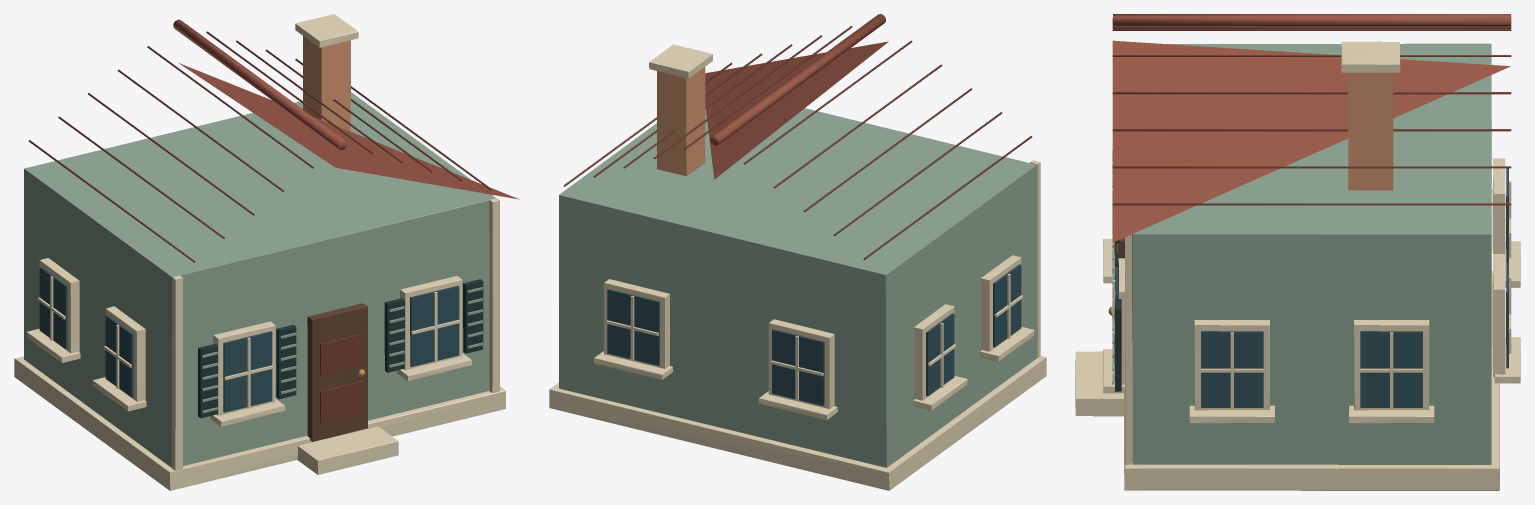
The model's file is house_cottage_low.glb.
The picture shows the model from 3 angles, left to right: view 1: azimuth 30°, elevation 25°; view 2: azimuth 150°, elevation 25°; view 3: azimuth 270°, elevation 25°; orthographic projection. The views are drawn at different scales.
Parts seen in each view (by area): view 1: Plaster walls, Foundation, Gabled terracotta roof, Front door, Chimney, Window glass.001, Window glass, Door step, Ridge cap, Corner trim, Corner trim.001, Window glass.002 (+16 smaller); view 2: Plaster walls, Foundation, Gabled terracotta roof, Chimney, Window glass.006, Window glass.007, Ridge cap, Window surround.006, Window surround.007, Window glass.002, Window glass.003, Window surround.002 (+7 smaller); view 3: Plaster walls, Gabled terracotta roof, Foundation, Chimney, Ridge cap, Window glass.004, Window glass.005, Door step, Window surround.005, Window surround.004, Chimney cap, Corner trim.001 (+16 smaller).
Part boxes in pixels (x1,y1,x2,y2): Plaster walls: (24, 92, 495, 467); Foundation: (14, 356, 505, 490); Gabled terracotta roof: (179, 63, 519, 199); Front door: (307, 303, 367, 441); Chimney: (303, 36, 350, 131); Window glass.001: (410, 285, 459, 367); Window glass: (223, 331, 272, 412); Door step: (297, 426, 398, 474); Ridge cap: (173, 19, 346, 149); Corner trim: (172, 275, 182, 470); Corner trim.001: (489, 198, 499, 393); Window glass.002: (105, 315, 133, 397); Plaster walls: (559, 106, 1036, 467); Foundation: (549, 356, 1046, 490); Gabled terracotta roof: (705, 41, 888, 179); Chimney: (657, 67, 705, 176); Window glass.006: (772, 329, 824, 405); Window glass.007: (607, 289, 659, 365); Ridge cap: (710, 14, 885, 145); Window surround.006: (768, 319, 834, 408); Window surround.007: (604, 279, 669, 368); Window glass.002: (993, 264, 1021, 347); Window glass.003: (926, 313, 954, 396); Window surround.002: (980, 255, 1021, 351); Plaster walls: (1132, 43, 1491, 464); Gabled terracotta roof: (1112, 40, 1510, 242); Foundation: (1124, 270, 1499, 490); Chimney: (1348, 72, 1393, 190); Ridge cap: (1112, 14, 1511, 26); Window glass.004: (1201, 331, 1263, 407); Window glass.005: (1360, 331, 1422, 407); Door step: (1075, 351, 1123, 416); Window surround.005: (1354, 320, 1429, 410); Window surround.004: (1194, 320, 1269, 410); Chimney cap: (1341, 41, 1400, 72); Corner trim.001: (1125, 234, 1132, 464).
Size of the model in its own units: 6.07 by 5.17 by 5.31.
